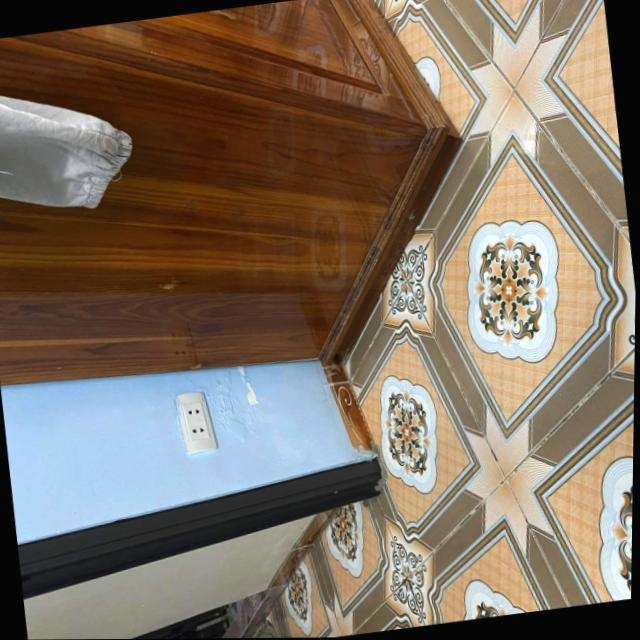outlet: (173, 388, 219, 455)
